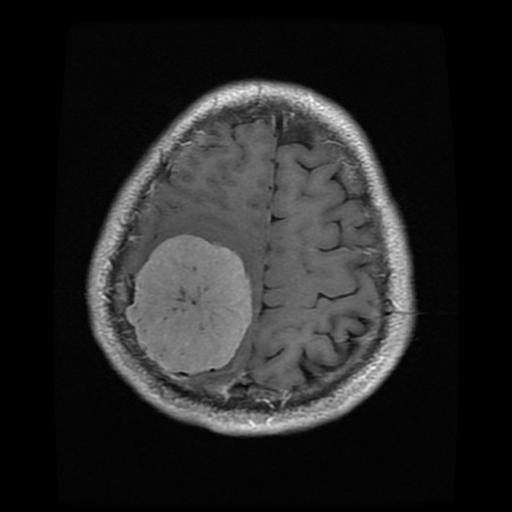Menigiomia_tumour: (123, 232, 252, 373)
